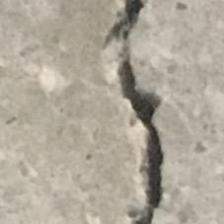Crack: (62, 0, 194, 224)
